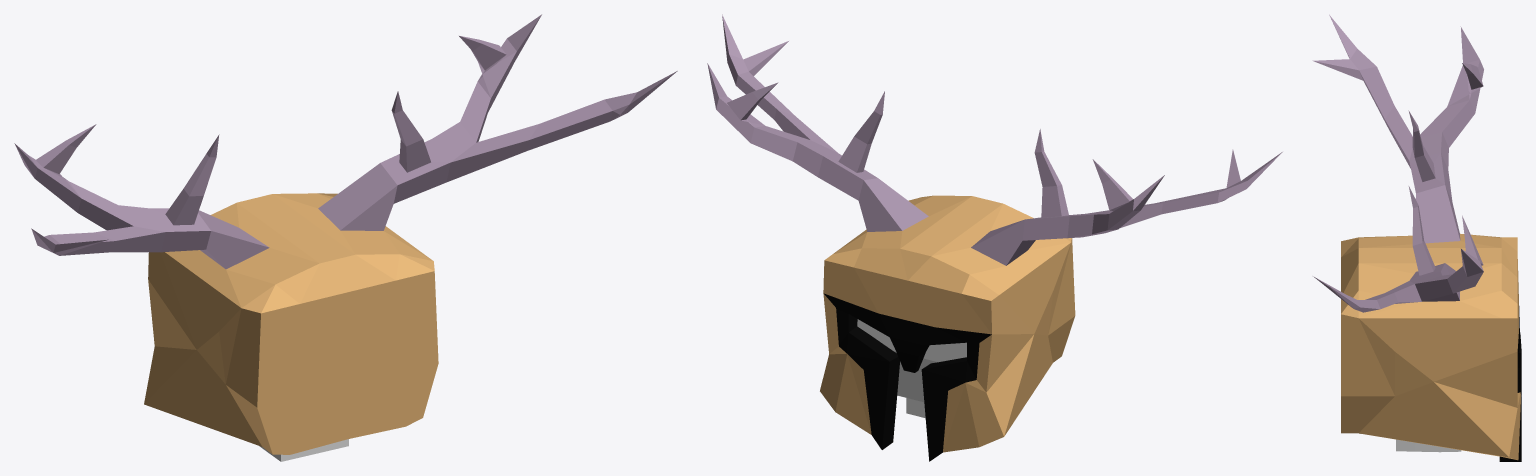
The model's file is Staghelm.fbx.
The picture shows the model from 3 angles, left to right: view 1: azimuth 30°, elevation 25°; view 2: azimuth 150°, elevation 25°; view 3: azimuth 270°, elevation 25°; orthographic projection. The views are drawn at different scales.
Parts seen in each view (by area): view 1: Deer; view 2: Deer, Player Head; view 3: Deer, Player Head.
Part boxes in pixels (bbox=[...]): Deer: bbox=[14, 14, 677, 454]; Deer: bbox=[707, 14, 1282, 461]; Player Head: bbox=[857, 319, 966, 418]; Deer: bbox=[1312, 14, 1521, 461]; Player Head: bbox=[1359, 433, 1461, 452].
Size of the model in its own units: 729 by 237 by 391.
